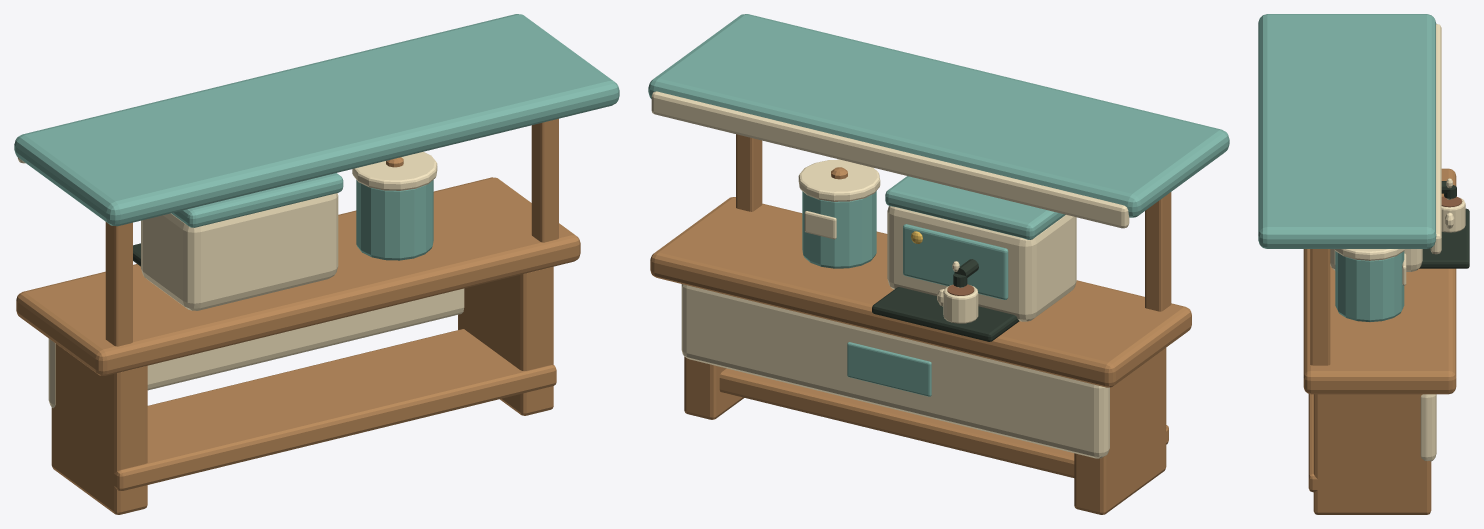
The model's file is SM_TeaStation.fbx.
3 renders of one model, left to right at view 1: azimuth 30°, elevation 25°; view 2: azimuth 150°, elevation 25°; view 3: azimuth 270°, elevation 25°, orthographic. The views are drawn at different scales.
Visible parts, largest first — view 1: StationMesh; view 2: StationMesh; view 3: StationMesh.
Boxes of the visible parts, x1,y1,x2,y2 form: StationMesh: [14, 14, 619, 514]; StationMesh: [648, 14, 1229, 514]; StationMesh: [1258, 14, 1469, 514].
Bounding box in the file's own units: 3.1 × 1.98 × 1.26.
